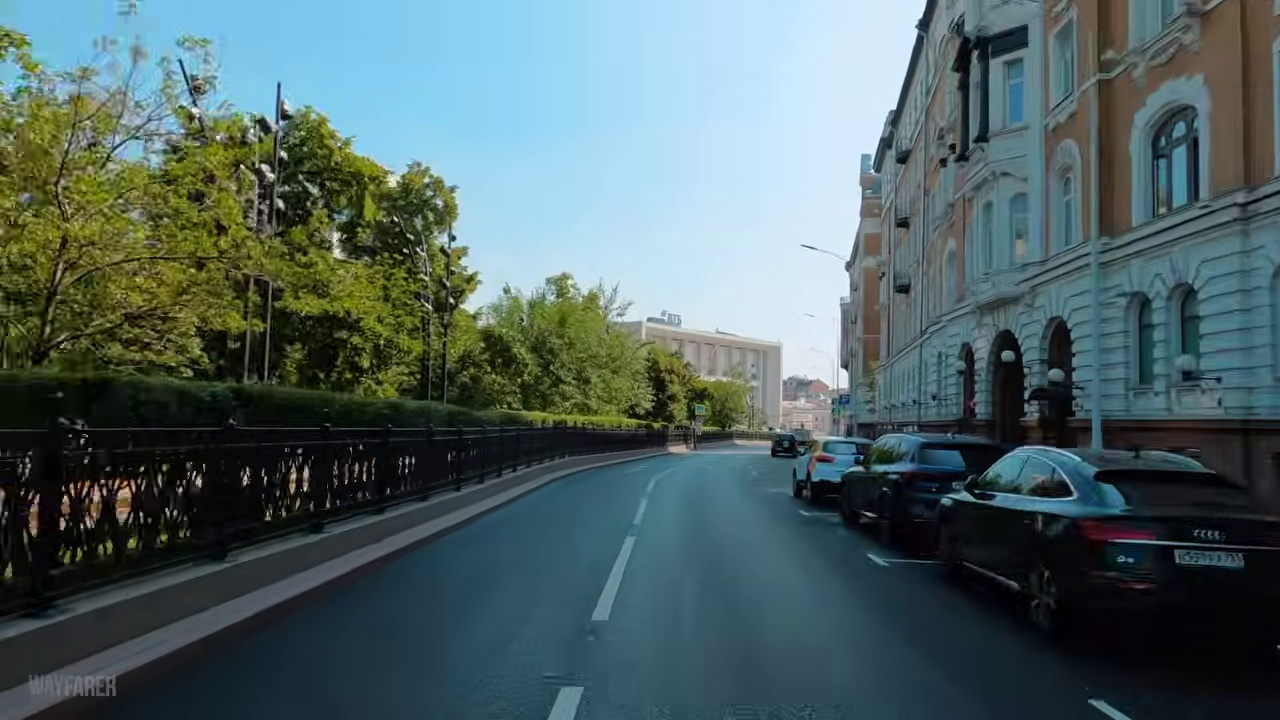apagada: (798, 236, 822, 258)
